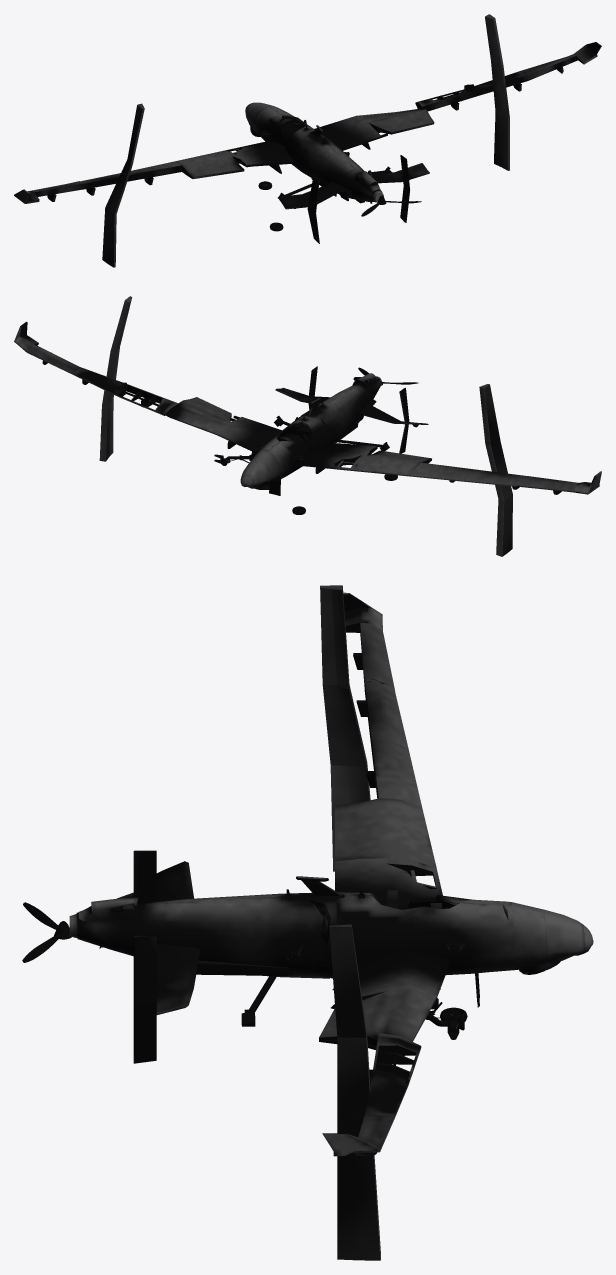
Rendered from small_plane_broken.fbx.
3 views of the same model, one above another, from view 1: azimuth 30°, elevation 25°; view 2: azimuth 150°, elevation 25°; view 3: azimuth 270°, elevation 25° (orthographic). The views are drawn at different scales.
Parts seen in each view (by area): view 1: smallplane_broken_base, smallplane_broken_base_back, smallplane_broken_wing_left, smallplane_broken_wing_right, smallplane_broken_wingflap_right, smallplane_broken_wingflap_left, smallplane_broken_tail, smallplane_broken_wing_end, smallplane_broken_wingflapback_left, smallplane_broken_wingflapback_right, smallplane_broken_front; view 2: smallplane_broken_base, smallplane_broken_wing_left, smallplane_broken_wing_right, smallplane_broken_base_back, smallplane_broken_wingflap_left, smallplane_broken_wingflap_right, smallplane_broken_front, smallplane_broken_wing_end, smallplane_broken_tail, smallplane_broken_wingflapback_left; view 3: smallplane_broken_base, smallplane_broken_base_back, smallplane_broken_wingflap_right, smallplane_broken_wing_left, smallplane_broken_wingflap_left, smallplane_broken_wing_right, smallplane_broken_front, smallplane_broken_tail, smallplane_broken_wingflapback_right, smallplane_broken_wing_end, smallplane_broken_wingflapback_left, smallplane_broken_backdoor2_right (+1 smaller).
Part boxes in pixels (x1,y1,x2,y2): smallplane_broken_base: [220, 107, 434, 173]; smallplane_broken_base_back: [277, 137, 429, 209]; smallplane_broken_wing_left: [79, 151, 244, 195]; smallplane_broken_wing_right: [415, 42, 601, 111]; smallplane_broken_wingflap_right: [485, 14, 509, 170]; smallplane_broken_wingflap_left: [102, 103, 144, 267]; smallplane_broken_tail: [343, 168, 383, 203]; smallplane_broken_wing_end: [14, 181, 82, 203]; smallplane_broken_wingflapback_left: [307, 176, 319, 243]; smallplane_broken_wingflapback_right: [400, 155, 409, 222]; smallplane_broken_front: [245, 102, 277, 136]; smallplane_broken_base: [166, 397, 377, 481]; smallplane_broken_wing_left: [354, 450, 526, 489]; smallplane_broken_wing_right: [14, 321, 178, 415]; smallplane_broken_base_back: [275, 387, 428, 442]; smallplane_broken_wingflap_left: [479, 384, 512, 556]; smallplane_broken_wingflap_right: [99, 296, 132, 461]; smallplane_broken_front: [240, 450, 279, 489]; smallplane_broken_wing_end: [517, 471, 601, 494]; smallplane_broken_tail: [349, 373, 381, 403]; smallplane_broken_wingflapback_left: [399, 387, 409, 453]; smallplane_broken_base: [296, 858, 516, 1056]; smallplane_broken_base_back: [156, 861, 329, 1014]; smallplane_broken_wingflap_right: [329, 924, 380, 1260]; smallplane_broken_wing_left: [335, 679, 436, 867]; smallplane_broken_wingflap_left: [320, 585, 370, 871]; smallplane_broken_wing_right: [322, 1033, 421, 1156]; smallplane_broken_front: [503, 901, 593, 974]; smallplane_broken_tail: [69, 892, 166, 956]; smallplane_broken_wingflapback_right: [133, 935, 156, 1063]; smallplane_broken_wing_end: [343, 592, 394, 689]; smallplane_broken_wingflapback_left: [133, 850, 156, 903]; smallplane_broken_backdoor2_right: [196, 962, 288, 975].
Bounding box in the file's own units: 2067 × 546 × 891.
1 material, 1 textured.
